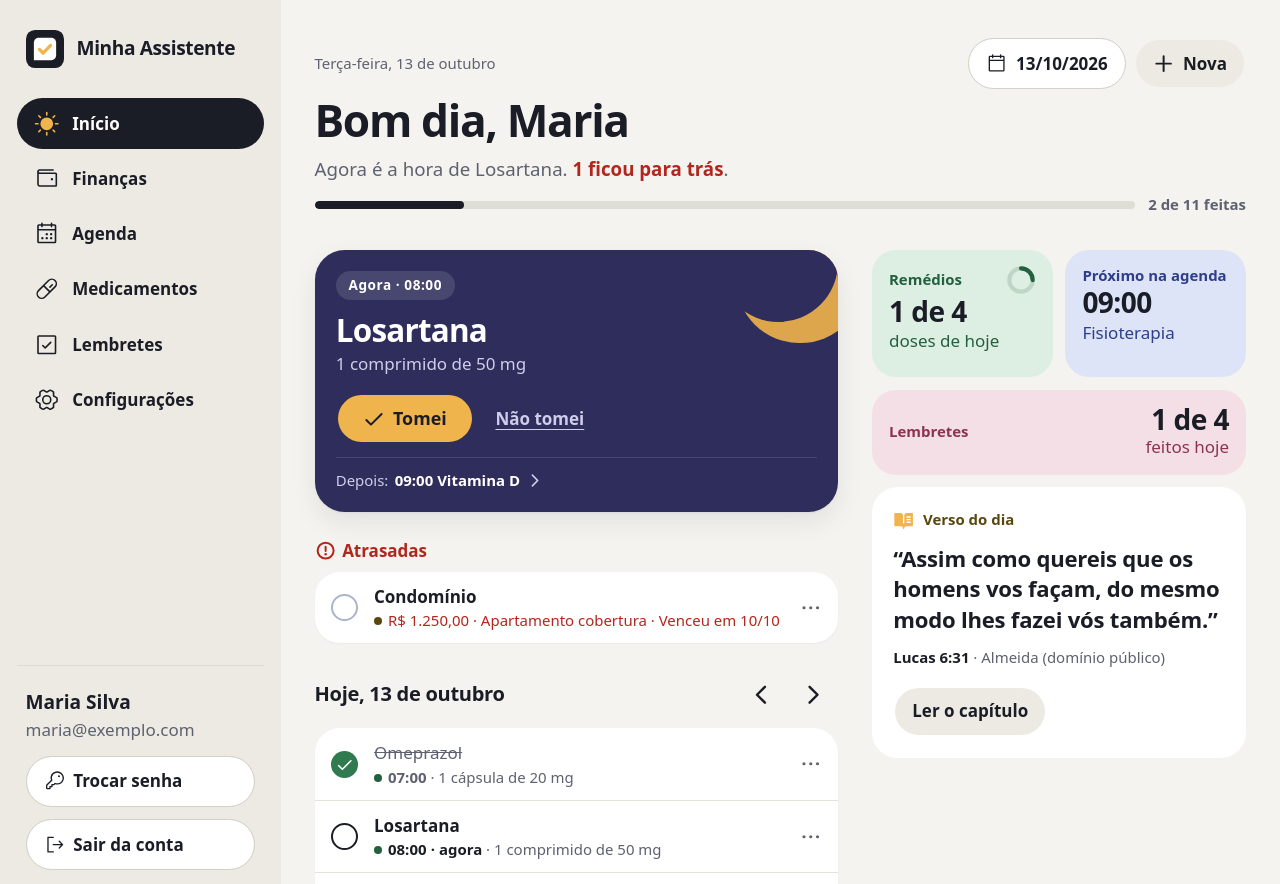
Scenario: tela Hoje: tarefas do dia › "Agora" destaca o que está acontecendo e o que vem depois; "Feito" passa para a seguinte
Check: the heading "Losartana" is shown, box [336,308,487,351]
Check: the text "Depois:" is shown, box [336,470,388,492]
Click the button with aria-label "Tomei: Losartana": (405, 419) [336,393,474,444]
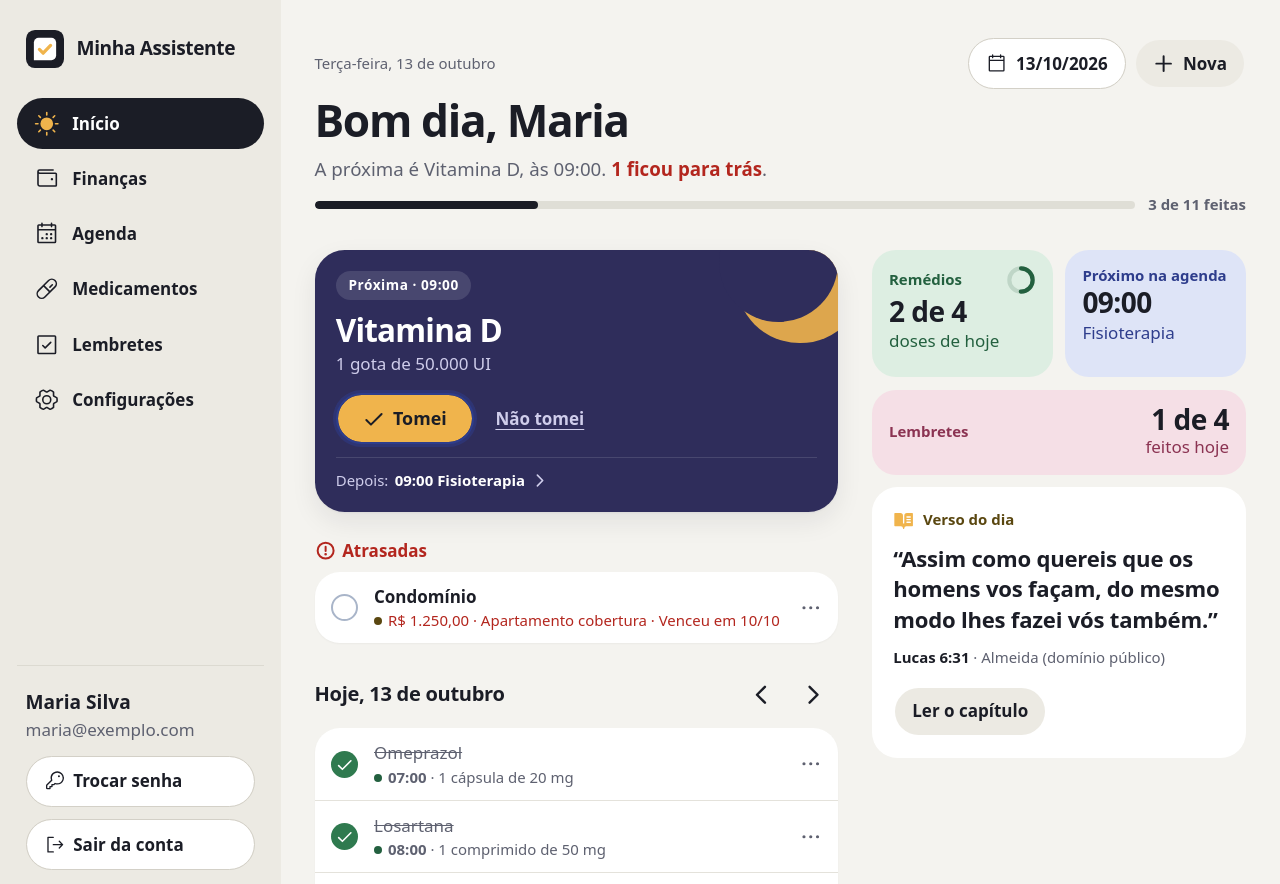
Check: the text "3 de 11 feitas" is shown, box [1148,194,1246,216]
